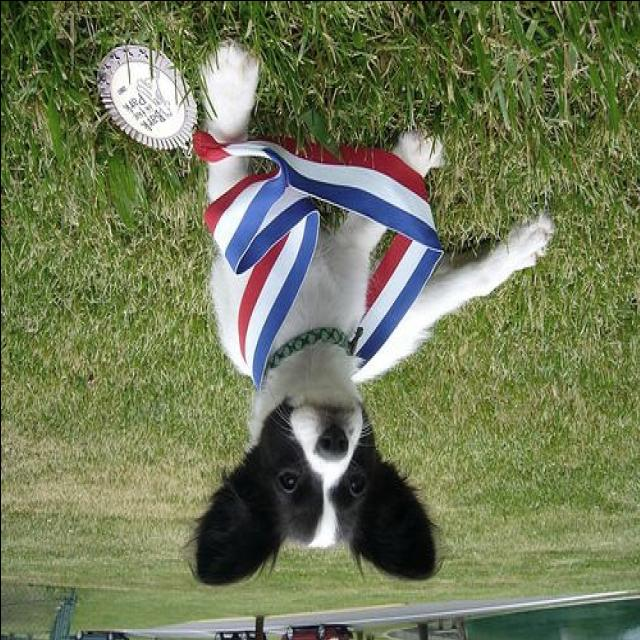papillon: (179, 39, 553, 587)
